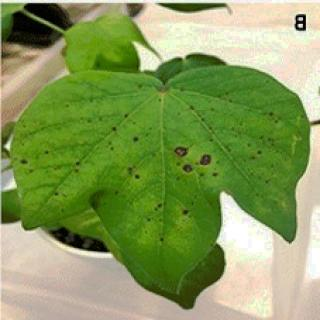leaf spot: (144, 129, 244, 225)
